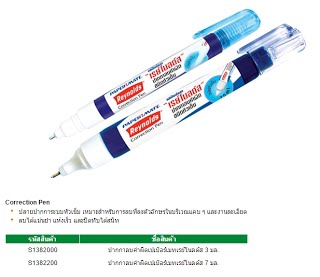Correction_fluid: (48, 22, 308, 182), (46, 8, 264, 144)
